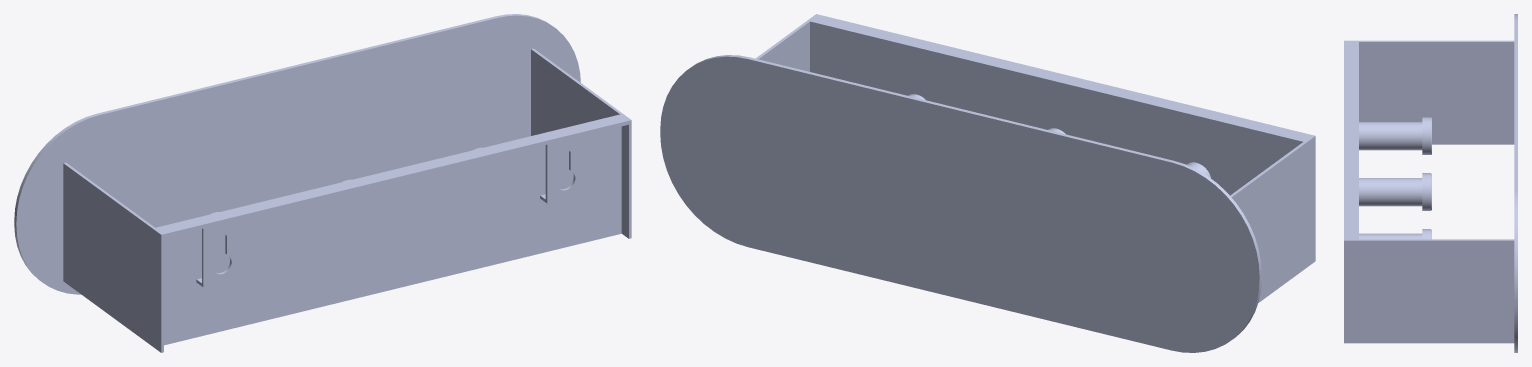
Rendered from round-hook.94be6c0fc3.glb.
3 renders of one model, left to right at view 1: azimuth 30°, elevation 25°; view 2: azimuth 150°, elevation 25°; view 3: azimuth 270°, elevation 25°, orthographic. The views are drawn at different scales.
Parts seen in each view (by area): view 1: NAUO1; view 2: NAUO1; view 3: NAUO1.
Boxes of the visible parts, x1=… form: NAUO1: x1=14, y1=14, x2=631, y2=352; NAUO1: x1=660, y1=14, x2=1315, y2=352; NAUO1: x1=1344, y1=14, x2=1517, y2=352.
Size of the model in its own units: 0.3 by 0.09 by 0.092.
